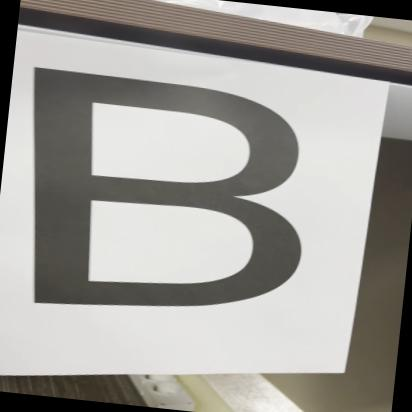seat: (0, 52, 344, 339)
